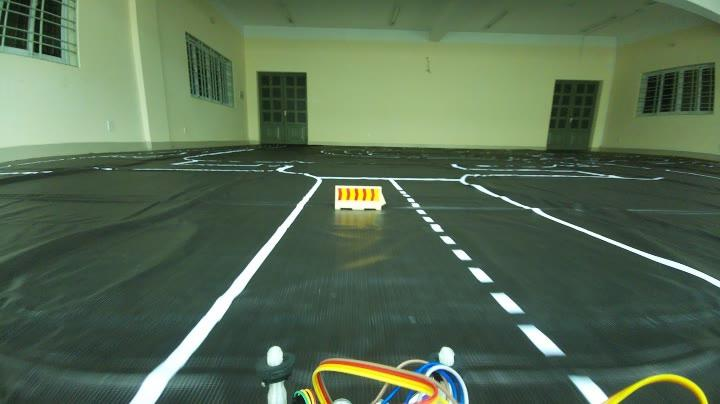roadblock: (330, 181, 388, 216)
